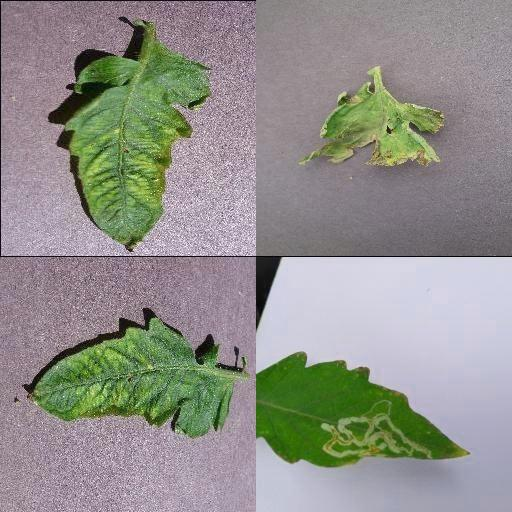Late Blight: (300, 79, 450, 169)
Leaf Miner: (257, 351, 473, 469)
Mosaic Virus: (62, 40, 214, 252), (25, 317, 235, 439)
